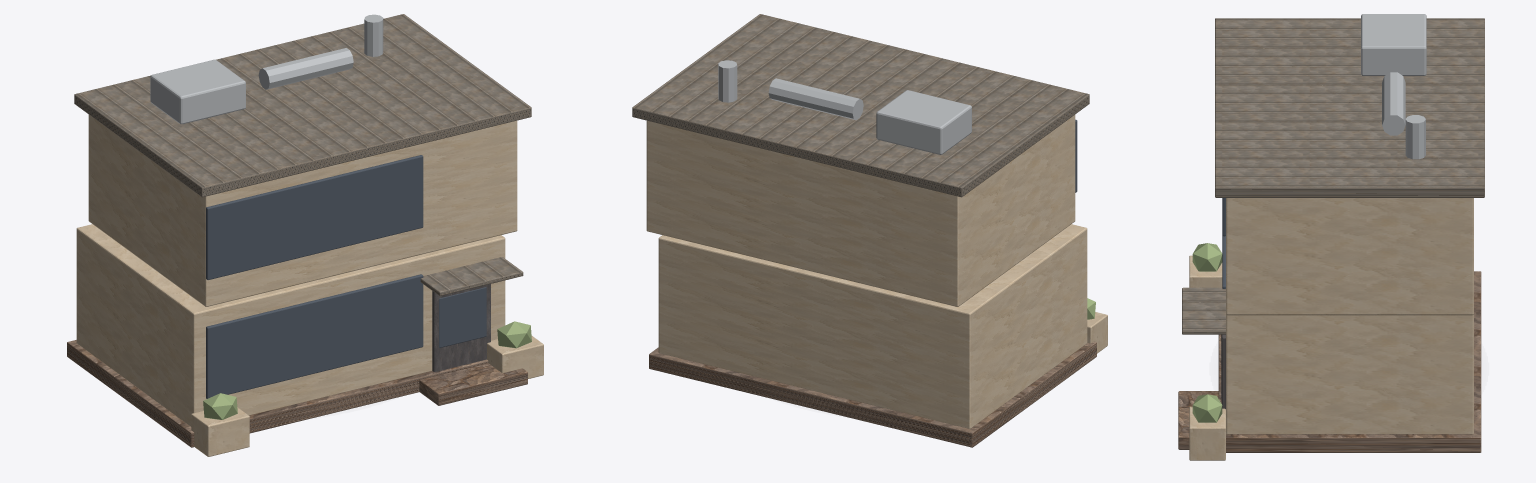
The model's file is research-institute.glb.
The picture shows the model from 3 angles, left to right: view 1: azimuth 30°, elevation 25°; view 2: azimuth 150°, elevation 25°; view 3: azimuth 270°, elevation 25°; orthographic projection. The views are drawn at different scales.
Visible parts, largest first — view 1: roofSlab, floor2, floor1, glassBand.001, glassBand, base, acUnit, steps, doorGlass, canopy, planter, duct (+5 smaller); view 2: floor1, floor2, roofSlab, base, acUnit, duct, ventStack, planter; view 3: roofSlab, floor1, floor2, base, acUnit, canopy, planter.001, duct, steps, ventStack, shrub, shrub.001 (+2 smaller).
Boxes of the visible parts, x1,y1,x2,y2 form: roofSlab: (74,14,531,197); floor2: (88,114,517,306); floor1: (76,224,505,426); glassBand.001: (206,155,423,279); glassBand: (206,274,423,398); base: (67,340,488,447); acUnit: (150,59,245,124); steps: (419,363,527,405); doorGlass: (439,287,486,347); canopy: (420,257,523,296); planter: (191,407,249,456); duct: (258,48,353,89); floor1: (658,224,1087,428); floor2: (646,114,1075,306); roofSlab: (632,14,1089,197); base: (649,341,1096,447); acUnit: (876,90,971,154); duct: (768,78,863,120); ventStack: (718,60,737,102); planter: (1087,312,1107,353); roofSlab: (1215,18,1484,197); floor1: (1226,315,1473,434); floor2: (1226,198,1473,315); base: (1218,271,1481,452); acUnit: (1361,14,1426,75); canopy: (1182,287,1225,334); planter.001: (1189,406,1225,460); duct: (1382,72,1405,135); steps: (1178,391,1218,449); ventStack: (1405,115,1425,159); shrub: (1192,243,1222,271); shrub.001: (1192,394,1222,422).
Bounding box in the file's own units: 6.5 × 4.68 × 4.7.
13 materials, 7 textured.
